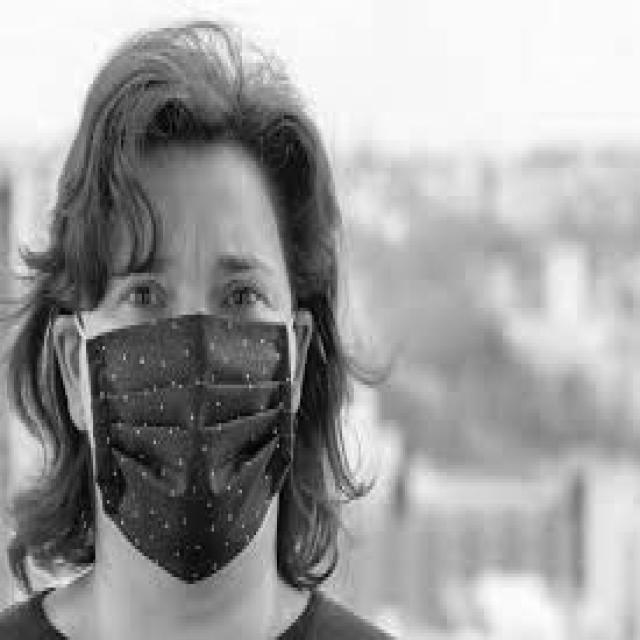with_mask: (72, 308, 296, 580)
